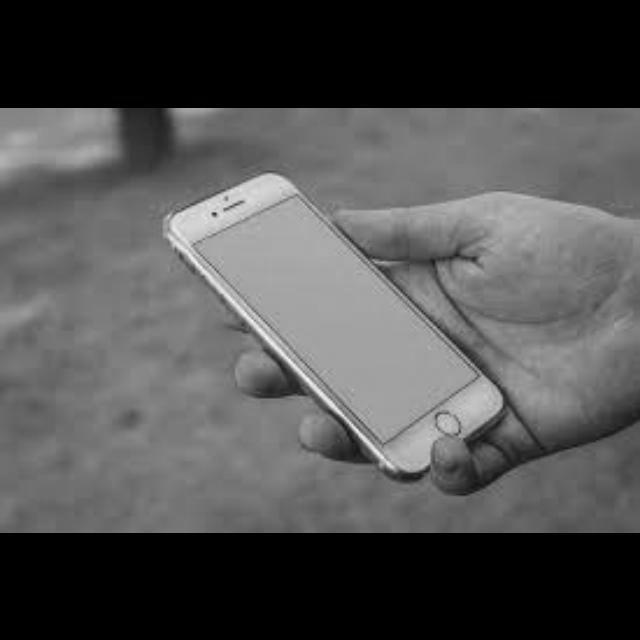fake: (98, 160, 548, 487)
